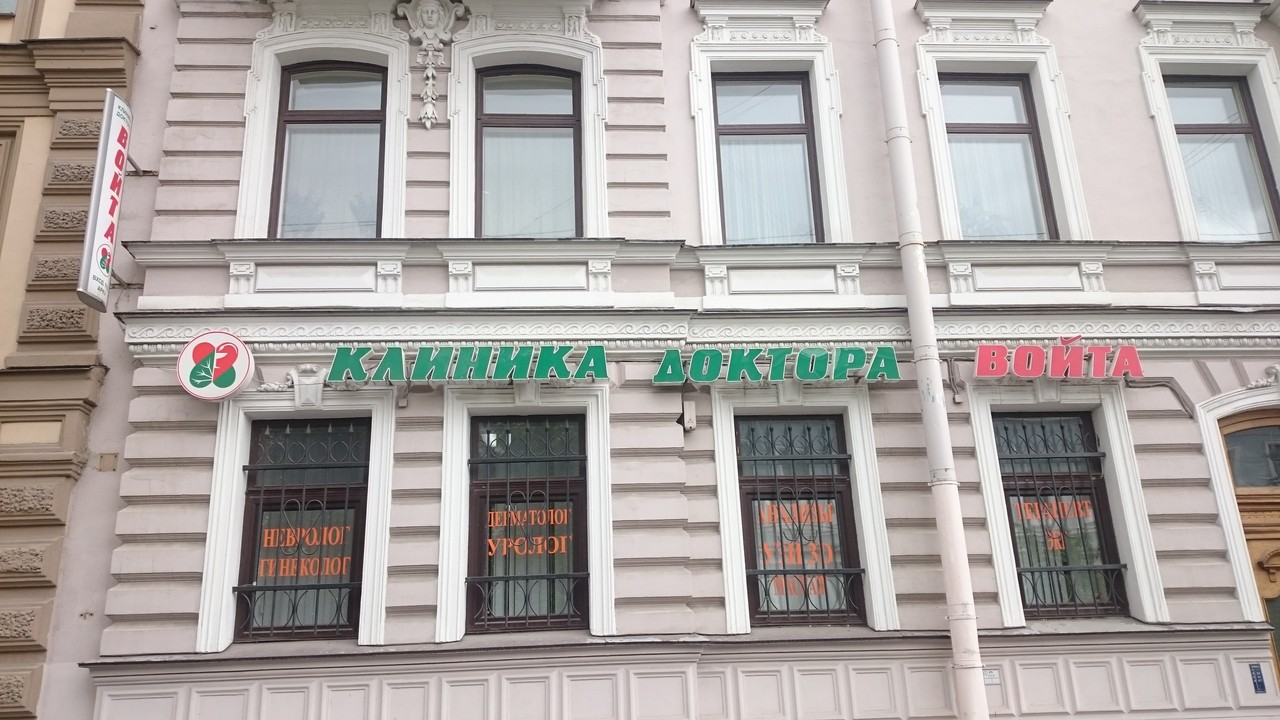cantilever: (73, 83, 153, 325)
signboard: (176, 331, 1151, 403)
window: (993, 404, 1132, 615), (737, 411, 862, 625), (468, 416, 587, 632), (246, 420, 362, 638), (267, 58, 387, 242), (711, 58, 822, 243), (1163, 73, 1280, 243), (477, 62, 586, 235), (938, 74, 1050, 238)
